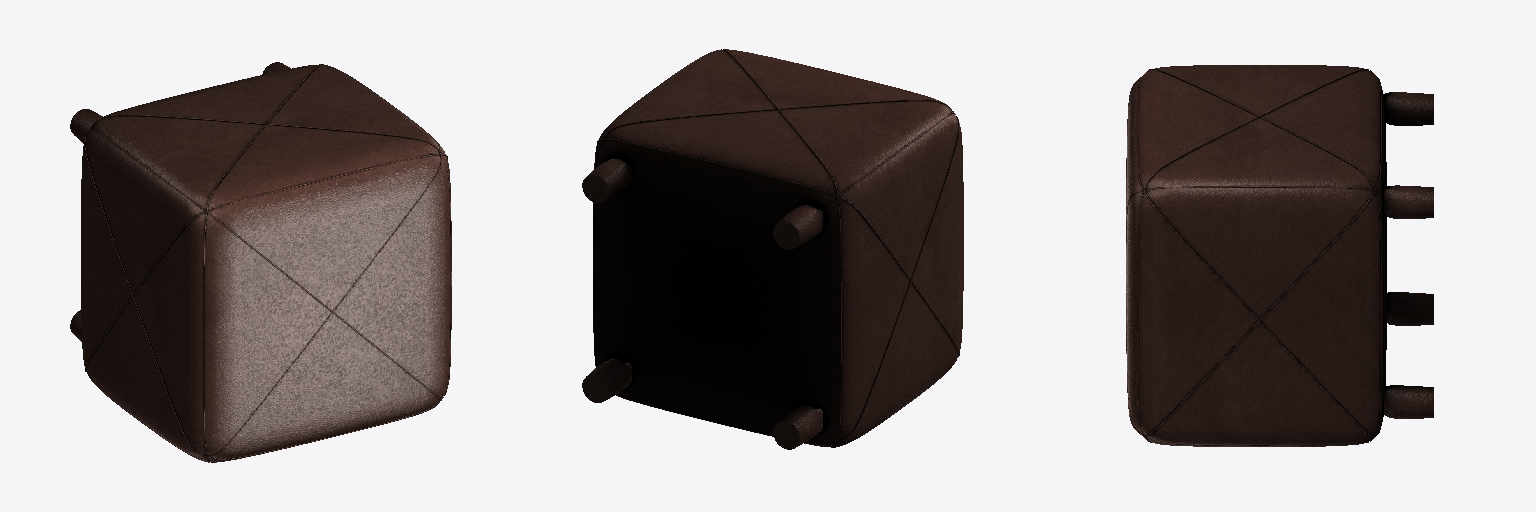
3 views of the same model, side by side, from view 1: azimuth 30°, elevation 25°; view 2: azimuth 150°, elevation 25°; view 3: azimuth 270°, elevation 25° (orthographic).
Parts seen in each view (by area): view 1: 10228_Foot_Stool_v1; view 2: 10228_Foot_Stool_v1; view 3: 10228_Foot_Stool_v1.
Part boxes in pixels (bbox=[...]): 10228_Foot_Stool_v1: bbox=[70, 62, 451, 462]; 10228_Foot_Stool_v1: bbox=[582, 49, 963, 449]; 10228_Foot_Stool_v1: bbox=[1126, 65, 1433, 446].
Size of the model in its own units: 44.97 by 44.97 by 44.97.
Materials: 1 (1 with a texture image).